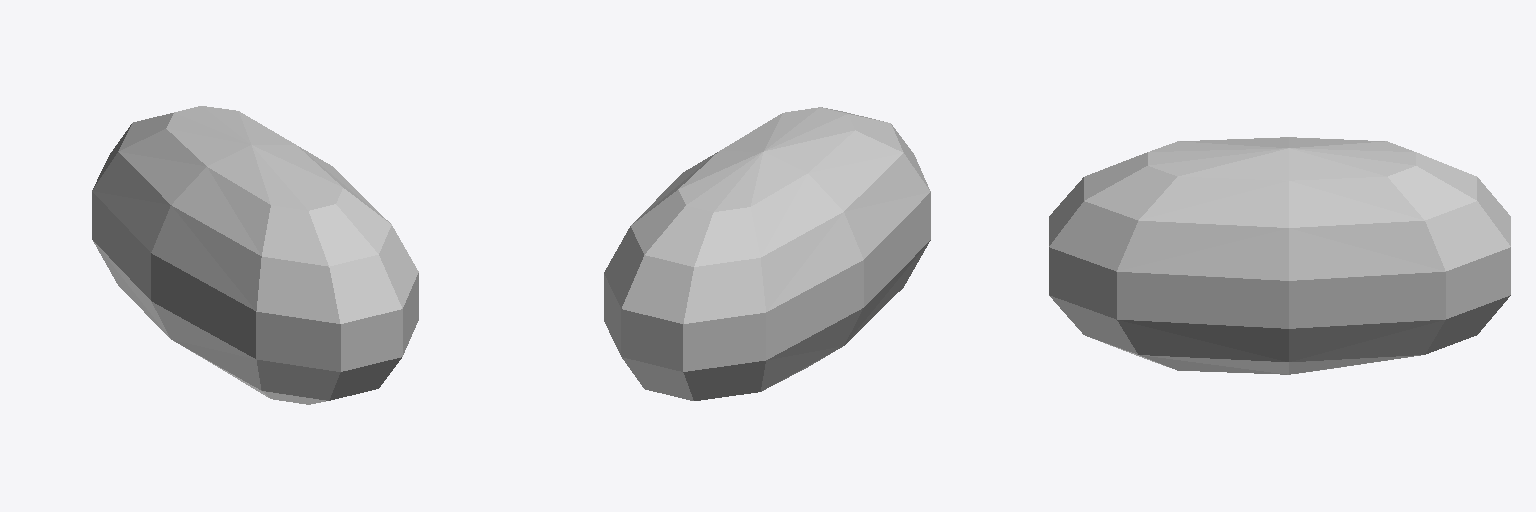
The model's file is EnemyChaser.obj.
3 views of the same model, side by side, from view 1: azimuth 30°, elevation 25°; view 2: azimuth 150°, elevation 25°; view 3: azimuth 270°, elevation 25° (orthographic).
Size of the model in its own units: 2.13 by 2.19 by 4.25.